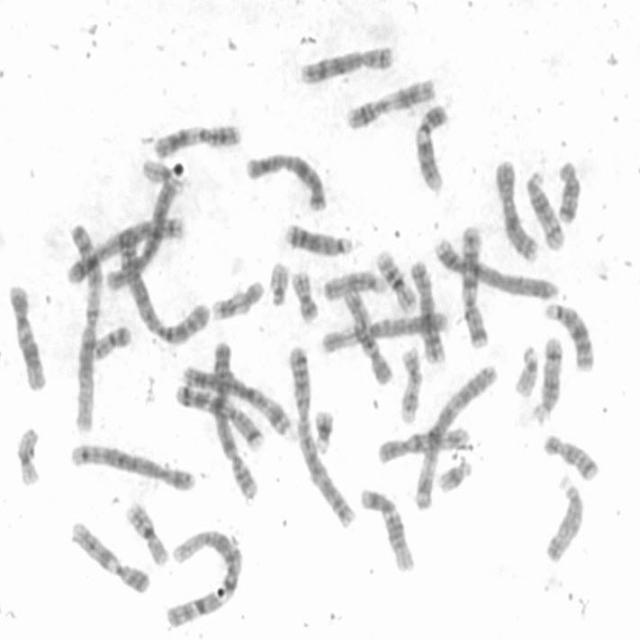A1: (161, 523, 245, 630), (65, 213, 104, 435)
A2: (284, 338, 358, 530), (112, 227, 212, 345)
A3: (408, 359, 498, 512), (174, 361, 298, 442)
B4: (206, 336, 261, 504), (429, 233, 560, 302)
B5: (62, 210, 188, 288), (66, 436, 199, 494)
C10: (340, 282, 396, 387), (373, 420, 472, 466)
C11: (342, 71, 438, 131), (149, 117, 245, 160)
C12: (356, 482, 418, 574), (4, 278, 49, 392)
C6: (101, 173, 184, 295), (316, 306, 452, 356)
C7: (171, 378, 267, 452), (456, 219, 491, 349)
C8: (296, 39, 397, 86), (405, 255, 447, 365)
C9: (66, 515, 153, 596), (410, 97, 451, 194)
D13: (539, 296, 597, 373), (282, 217, 356, 257)
D14: (521, 165, 568, 252), (530, 331, 566, 425)
D15: (539, 470, 587, 565), (320, 266, 388, 302)
E16: (122, 496, 171, 567), (372, 244, 418, 314)
E17: (207, 274, 266, 322), (394, 342, 424, 424)
E18: (540, 428, 602, 482), (552, 153, 584, 224)
F19: (141, 154, 188, 202), (12, 420, 43, 488)
F20: (288, 265, 321, 323), (88, 320, 133, 361)
G21: (433, 454, 474, 494), (310, 402, 336, 456)
G22: (510, 339, 541, 399), (264, 255, 292, 308)
X: (242, 146, 330, 214), (491, 153, 541, 264)
